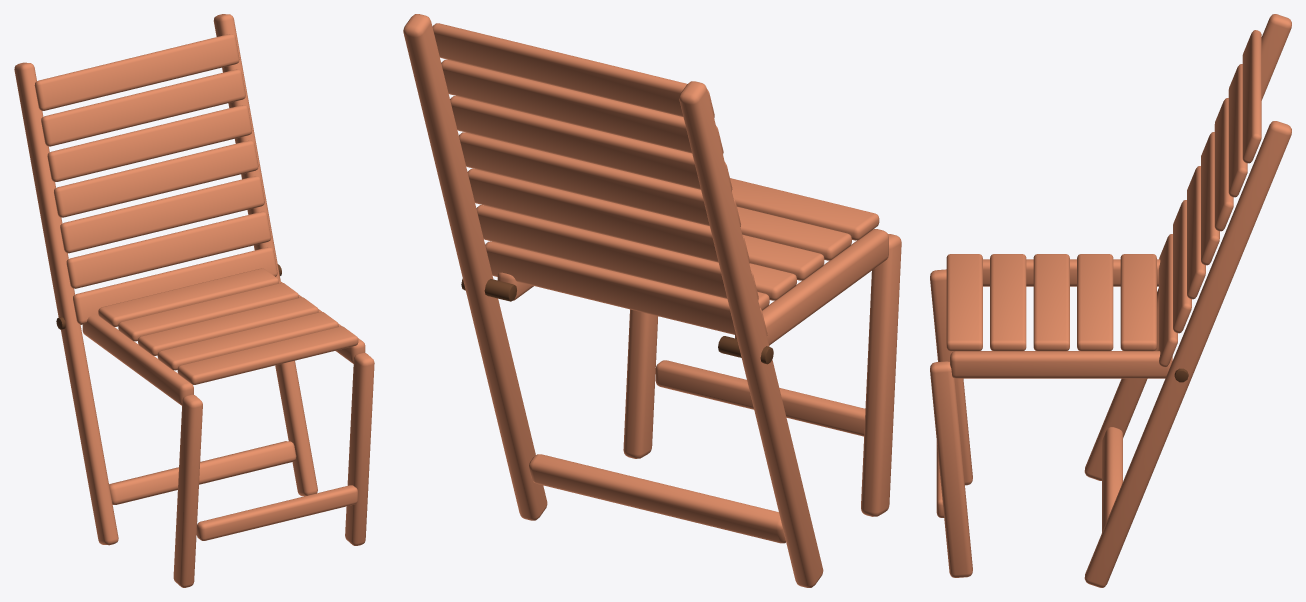
File: cadeira_dobravel_madeira.glb
3 views of the same model, side by side, from view 1: azimuth 30°, elevation 25°; view 2: azimuth 150°, elevation 25°; view 3: azimuth 270°, elevation 25° (orthographic). The views are drawn at different scales.
Parts seen in each view (by area): view 1: cadeira_dobravel_madeira; view 2: cadeira_dobravel_madeira; view 3: cadeira_dobravel_madeira.
Boxes of the visible parts, x1,y1,x2,y2 form: cadeira_dobravel_madeira: (14, 14, 374, 587); cadeira_dobravel_madeira: (403, 14, 901, 587); cadeira_dobravel_madeira: (930, 14, 1291, 587).
Size of the model in its own units: 0.475 by 0.8702 by 0.6156.
Materials: 1 (1 with a texture image).
